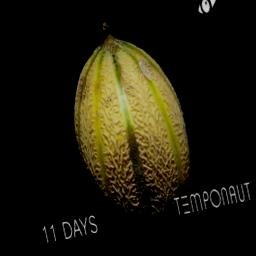Melon Ripe: (47, 8, 207, 238)
